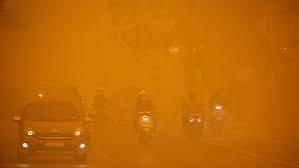Kendaraan: (15, 99, 92, 161), (133, 109, 160, 151), (180, 109, 206, 148), (207, 103, 231, 140)
Manusia: (90, 89, 111, 132), (133, 89, 156, 121), (183, 90, 204, 120), (209, 90, 226, 113)
